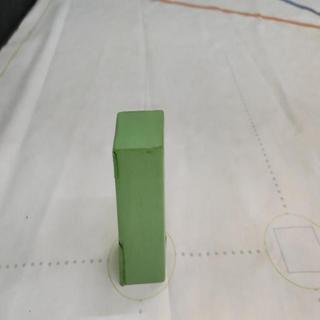greenbox: (111, 109, 168, 286)
